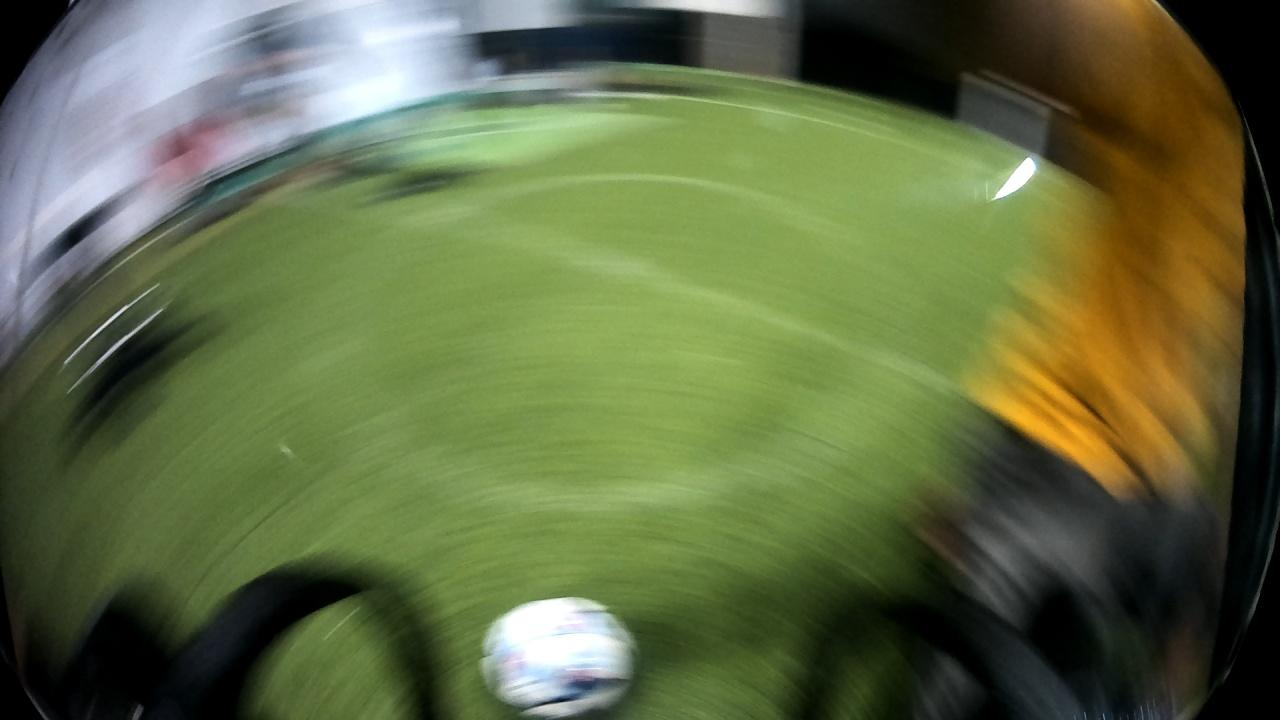ball: (472, 589, 646, 720)
